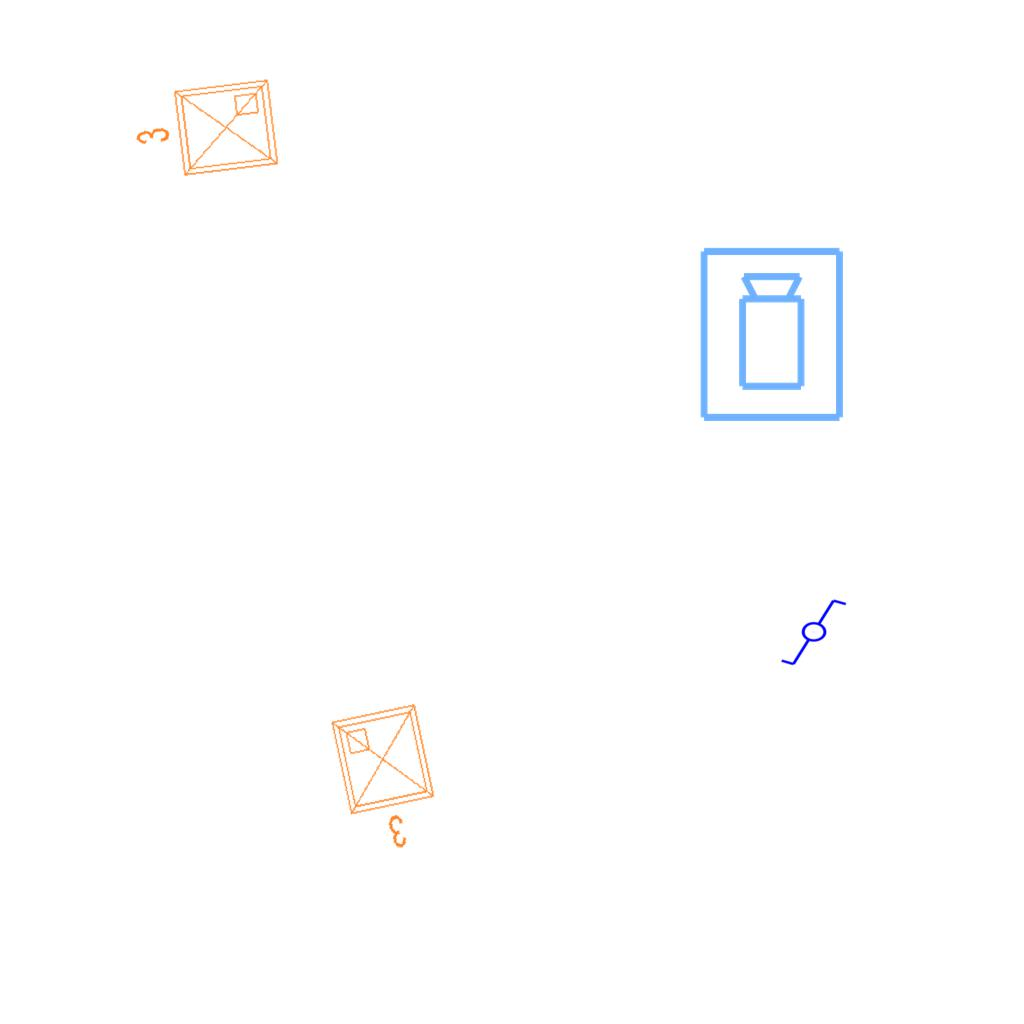Einbaudownlights_LED_Konferenzraeume: (322, 694, 456, 864), (125, 71, 287, 193)
KFO_Kamera_mit_Festobjektiv: (696, 244, 850, 426)
Wechselschalter: (779, 597, 857, 669)
